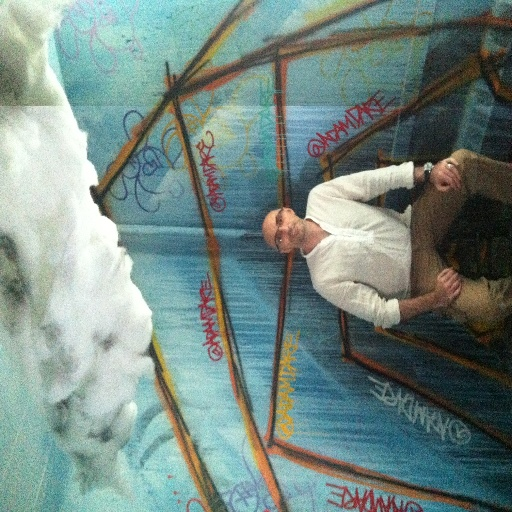hand: (430, 154, 463, 193), (434, 264, 462, 307)
